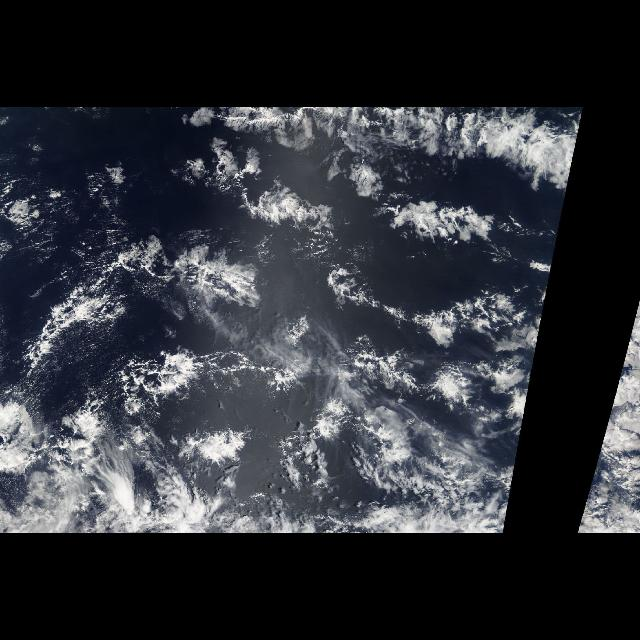Fish: (8, 107, 584, 373)
Flower: (68, 144, 520, 466)
Sugar: (8, 154, 132, 302)
